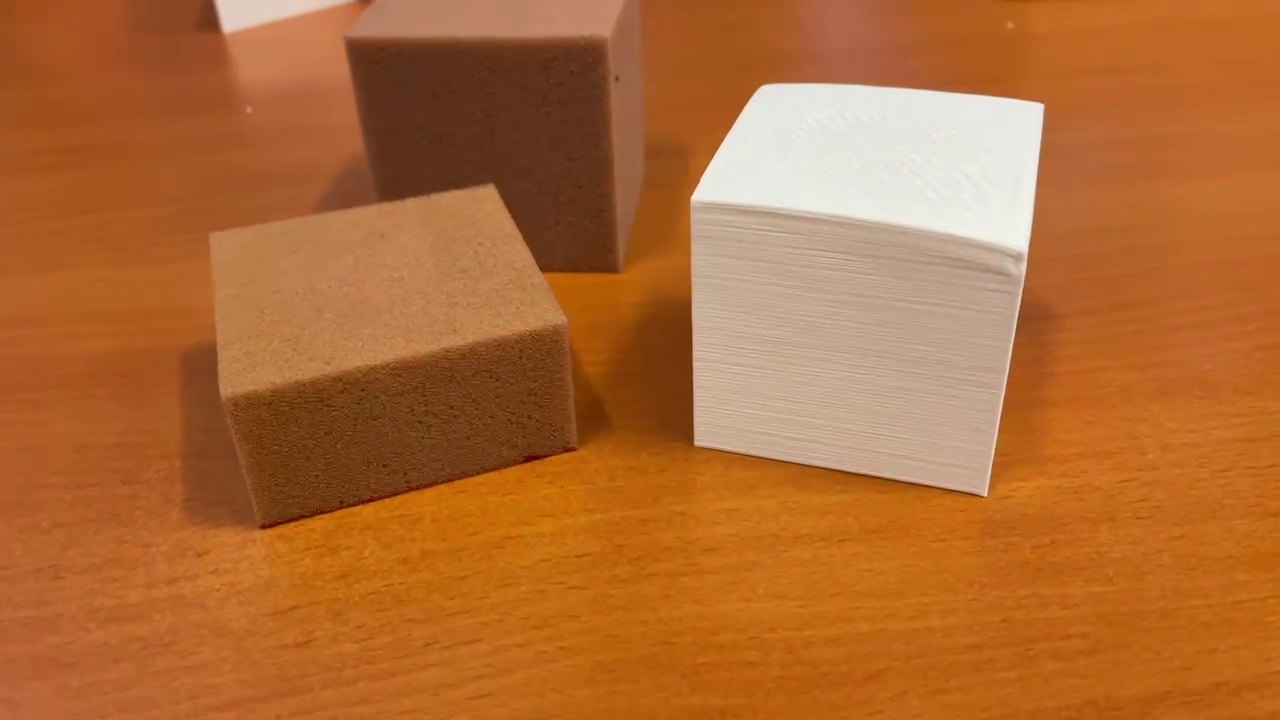Cube: (682, 67, 1049, 507), (333, 1, 654, 275)
Cube_short: (200, 178, 583, 540)
